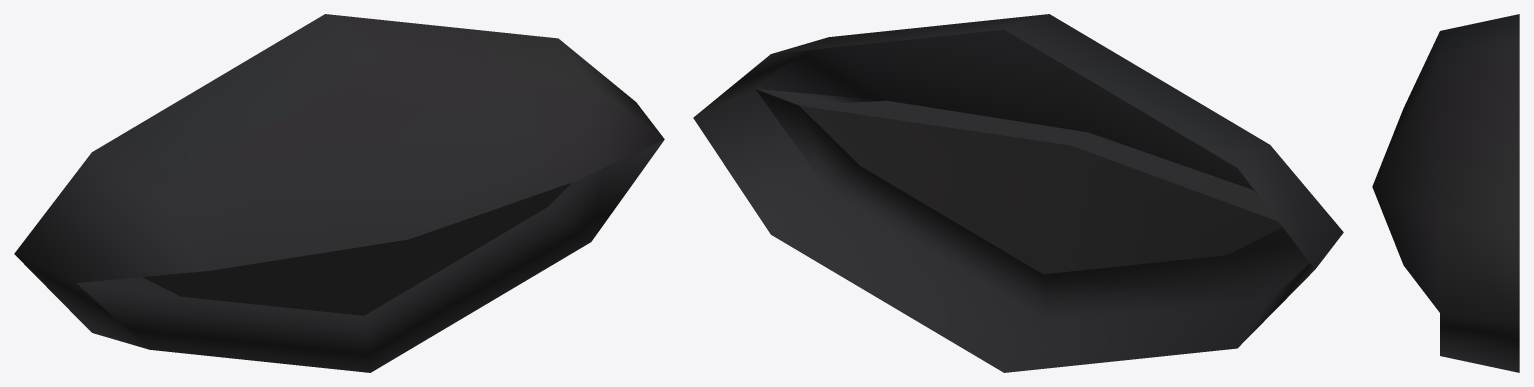
The model's file is light-stair-01.glb.
3 views of the same model, side by side, from view 1: azimuth 30°, elevation 25°; view 2: azimuth 150°, elevation 25°; view 3: azimuth 270°, elevation 25° (orthographic). The views are drawn at different scales.
Parts seen in each view (by area): view 1: Light_Stair_01; view 2: Light_Stair_01; view 3: Light_Stair_01.
Part boxes in pixels (x1,y1,x2,y2): Light_Stair_01: (14,14,664,372); Light_Stair_01: (693,14,1343,372); Light_Stair_01: (1372,14,1519,372).
Size of the model in its own units: 0.2 by 0.1055 by 0.0467.
1 material, 1 textured.
